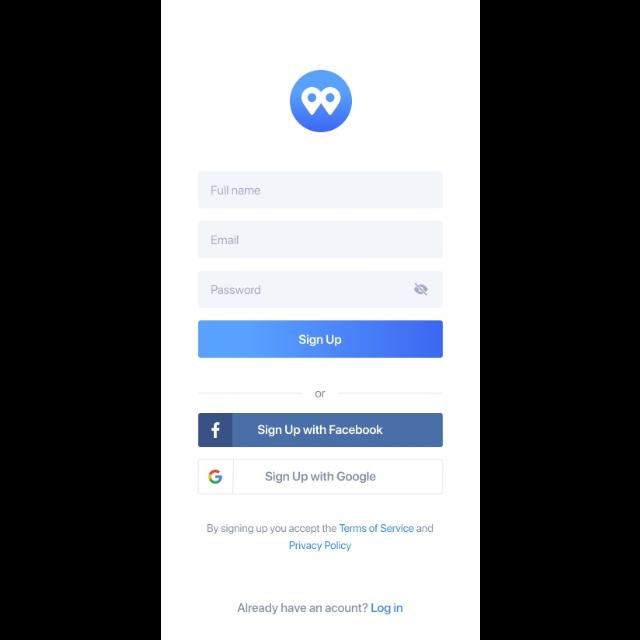icon: (414, 284, 428, 296)
image: (290, 70, 352, 132)
input: (199, 172, 443, 210), (198, 222, 442, 258), (198, 272, 442, 308)
text: (207, 524, 433, 552), (238, 604, 368, 614), (212, 187, 260, 196), (212, 286, 260, 294), (372, 603, 402, 615), (212, 236, 238, 244), (315, 390, 325, 398)
textbutton: (199, 322, 443, 358), (197, 460, 443, 494), (198, 413, 442, 447)
